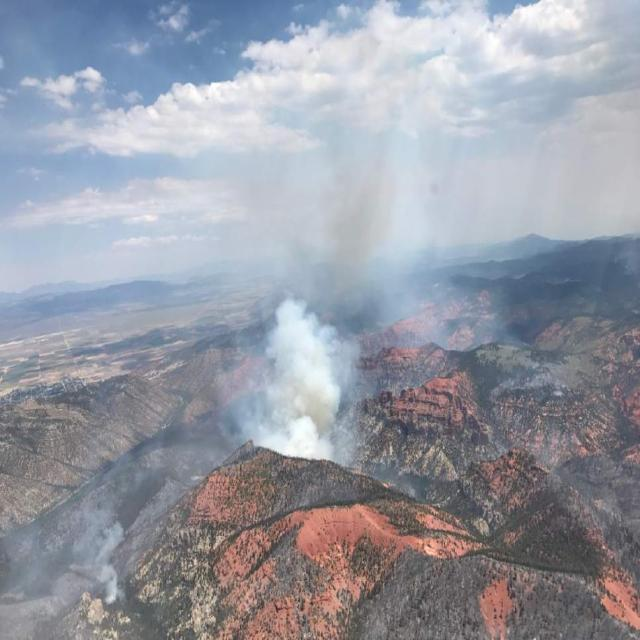Smoke: (302, 105, 408, 334), (224, 294, 356, 474), (71, 508, 119, 612)
